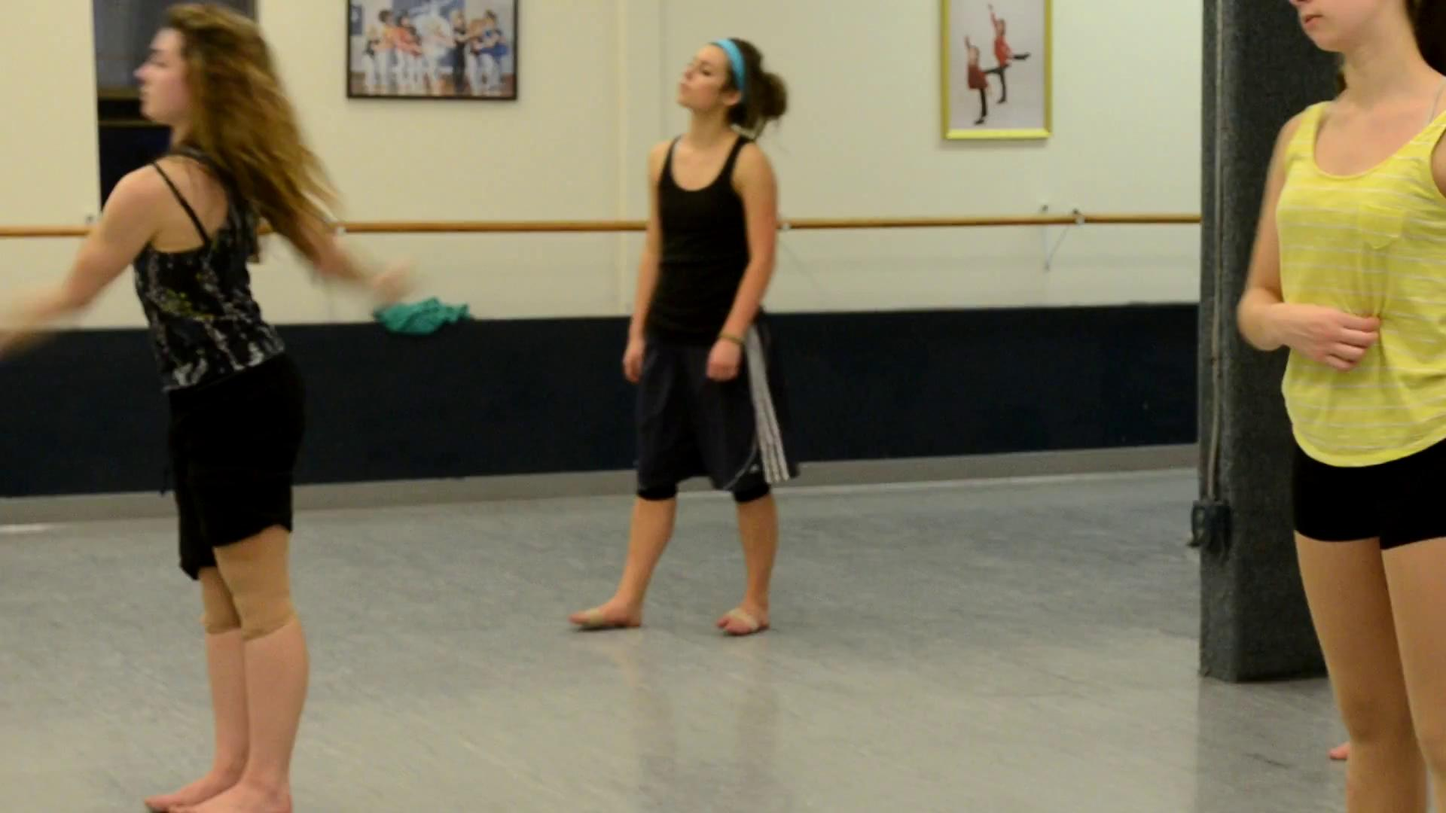victim: (75, 3, 416, 812), (1227, 2, 1446, 813), (564, 32, 805, 647)
